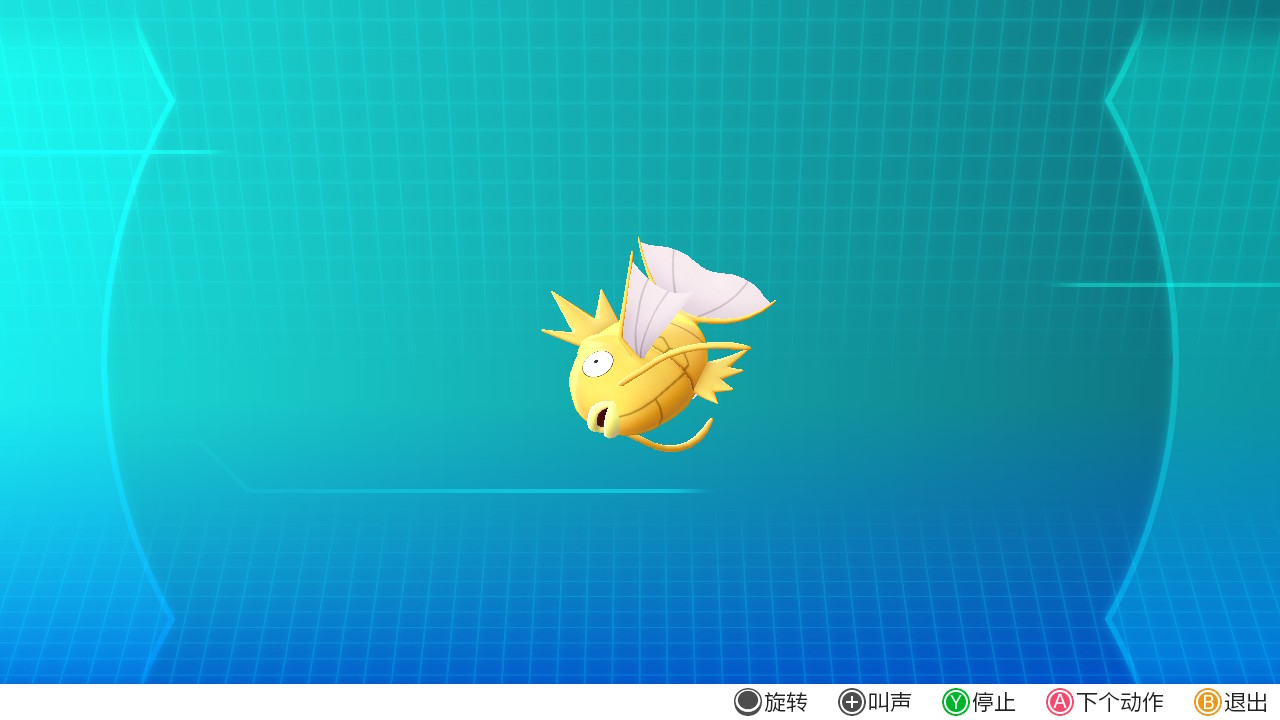Golden: (534, 235, 776, 465)
